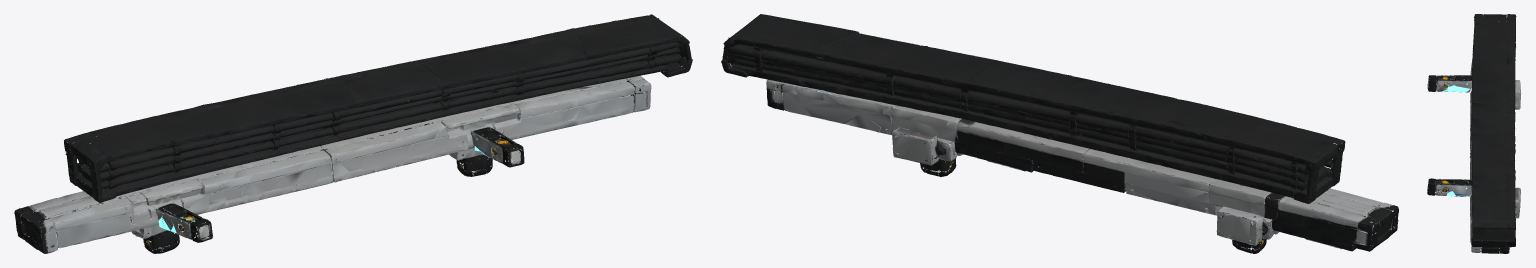
The picture shows the model from 3 angles, left to right: view 1: azimuth 30°, elevation 25°; view 2: azimuth 150°, elevation 25°; view 3: azimuth 270°, elevation 25°; orthographic projection. The views are drawn at different scales.
Parts seen in each view (by area): view 1: M03_M03_Hyper3D_original_uniform_only; view 2: M03_M03_Hyper3D_original_uniform_only; view 3: M03_M03_Hyper3D_original_uniform_only.
Boxes of the visible parts, box(x1,y1,x2,y2) form: M03_M03_Hyper3D_original_uniform_only: box(14, 14, 692, 253); M03_M03_Hyper3D_original_uniform_only: box(721, 14, 1398, 253); M03_M03_Hyper3D_original_uniform_only: box(1427, 14, 1521, 253).
Size of the model in its own units: 4.01 by 0.7107 by 0.7396.
2 materials, 1 textured.
